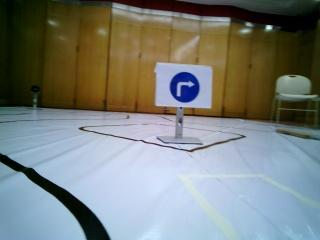right: (159, 64, 212, 108)
